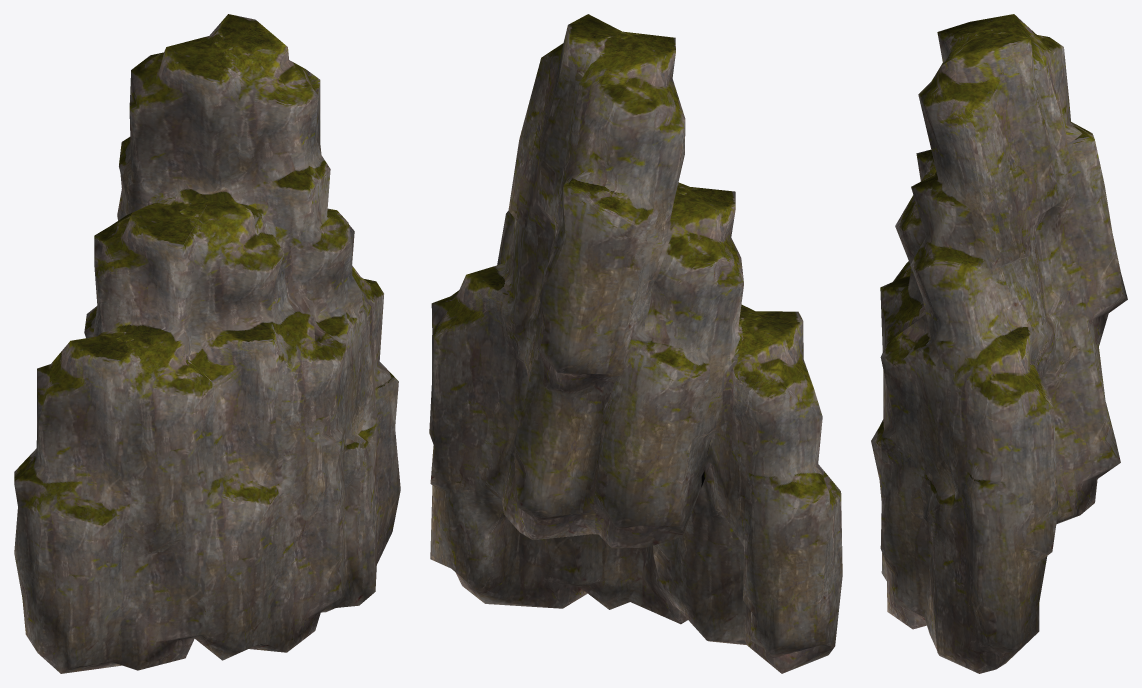
Rendered from SM_PROXY_SM_Cliff_01b.fbx.
The picture shows the model from 3 angles, left to right: view 1: azimuth 30°, elevation 25°; view 2: azimuth 150°, elevation 25°; view 3: azimuth 270°, elevation 25°; orthographic projection. The views are drawn at different scales.
Parts seen in each view (by area): view 1: SM_PROXY_SM_Cliff_01b_LOD0; view 2: SM_PROXY_SM_Cliff_01b_LOD0; view 3: SM_PROXY_SM_Cliff_01b_LOD0.
Part boxes in pixels (x1,y1,x2,y2): SM_PROXY_SM_Cliff_01b_LOD0: [14, 14, 400, 673]; SM_PROXY_SM_Cliff_01b_LOD0: [429, 14, 842, 673]; SM_PROXY_SM_Cliff_01b_LOD0: [871, 14, 1127, 673].
Bounding box in the file's own units: 34604 × 20377 × 51056.
